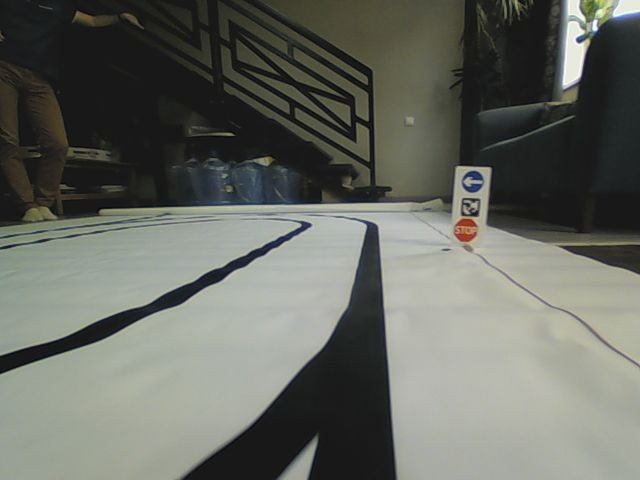Stop: (453, 217, 479, 245)
